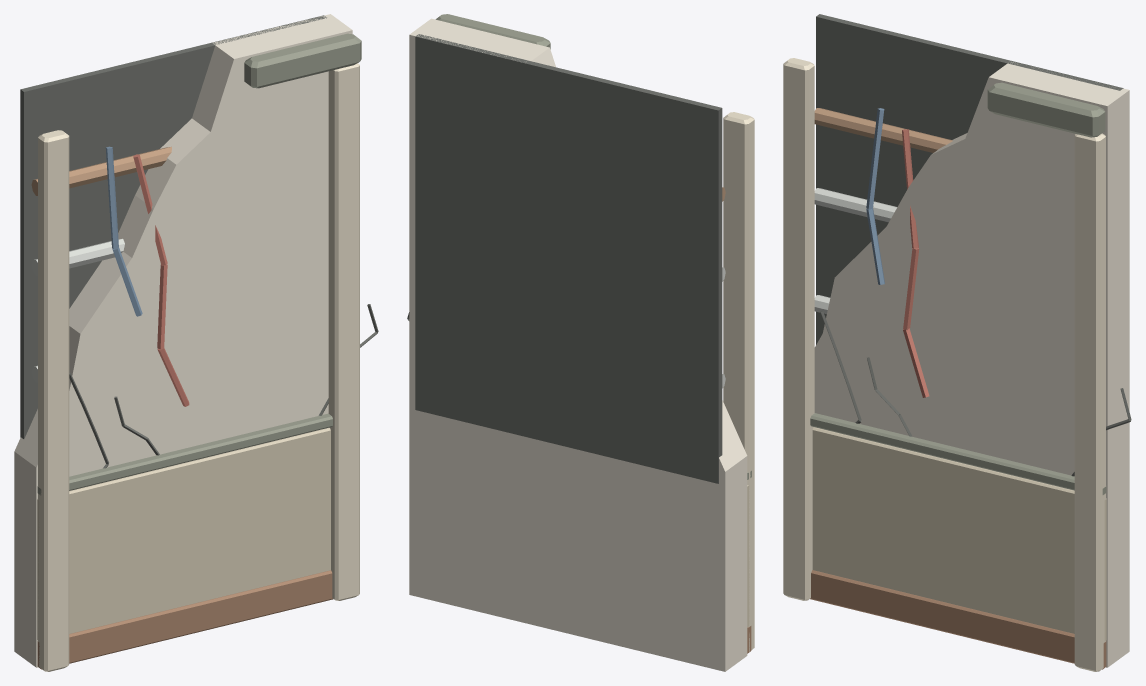
File: lab_wall_panel_damaged_b.glb
The picture shows the model from 3 angles, left to right: view 1: azimuth 30°, elevation 25°; view 2: azimuth 150°, elevation 25°; view 3: azimuth 330°, elevation 25°; orthographic projection.
Parts seen in each view (by area): view 1: lab_wall_panel_damaged_b; view 2: lab_wall_panel_damaged_b; view 3: lab_wall_panel_damaged_b.
Part boxes in pixels (<box>): lab_wall_panel_damaged_b: <box>14,14,378,671</box>; lab_wall_panel_damaged_b: <box>407,14,754,671</box>; lab_wall_panel_damaged_b: <box>783,14,1131,671</box>.
Bounding box in the file's own units: 2.68 × 4.2 × 0.455.
